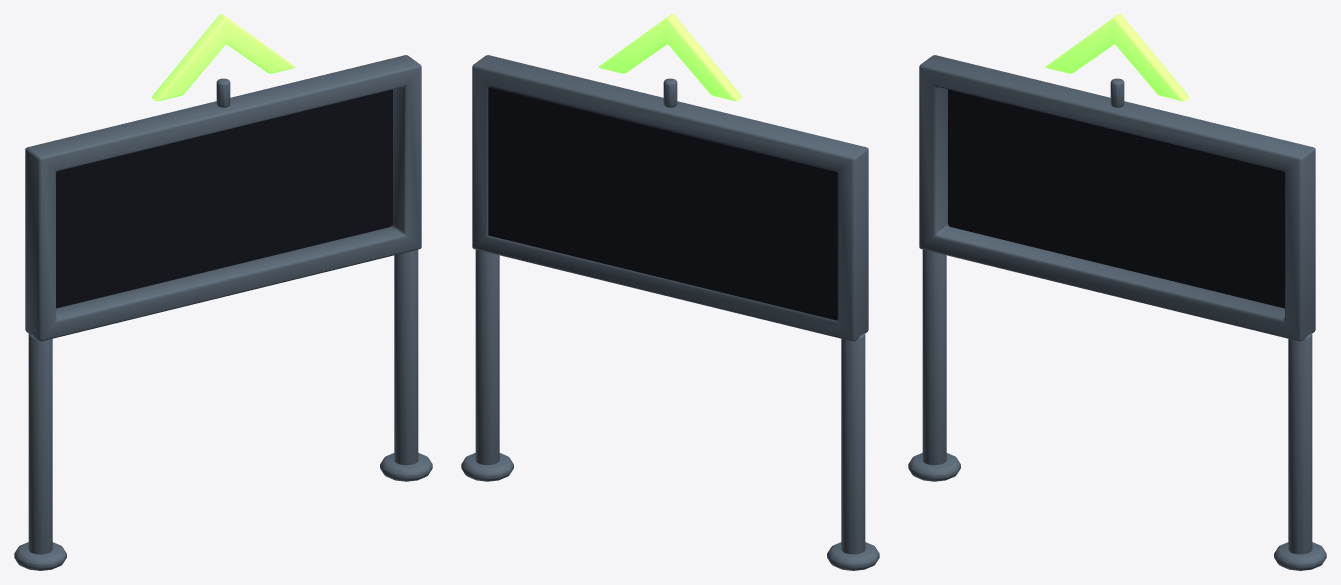
The model's file is CartelFlecha.fbx.
3 renders of one model, left to right at view 1: azimuth 30°, elevation 25°; view 2: azimuth 150°, elevation 25°; view 3: azimuth 330°, elevation 25°, orthographic.
Visible parts, largest first — view 1: CartelFlecha_Fondo, CartelFlecha_Marco, CartelFlecha_Flecha_Neon; view 2: CartelFlecha_Fondo, CartelFlecha_Marco, CartelFlecha_Flecha_Neon; view 3: CartelFlecha_Fondo, CartelFlecha_Marco, CartelFlecha_Flecha_Neon.
Boxes of the visible parts, box(x1,y1,x2,y2) form: CartelFlecha_Fondo: box(56, 89, 392, 308); CartelFlecha_Marco: box(14, 55, 432, 570); CartelFlecha_Flecha_Neon: box(151, 14, 295, 101); CartelFlecha_Fondo: box(488, 87, 837, 320); CartelFlecha_Marco: box(461, 55, 879, 570); CartelFlecha_Flecha_Neon: box(598, 14, 742, 101); CartelFlecha_Fondo: box(948, 89, 1284, 308); CartelFlecha_Marco: box(908, 55, 1326, 570); CartelFlecha_Flecha_Neon: box(1045, 14, 1189, 101).
Size of the model in its own units: 7.56 by 8.8 by 0.84.
